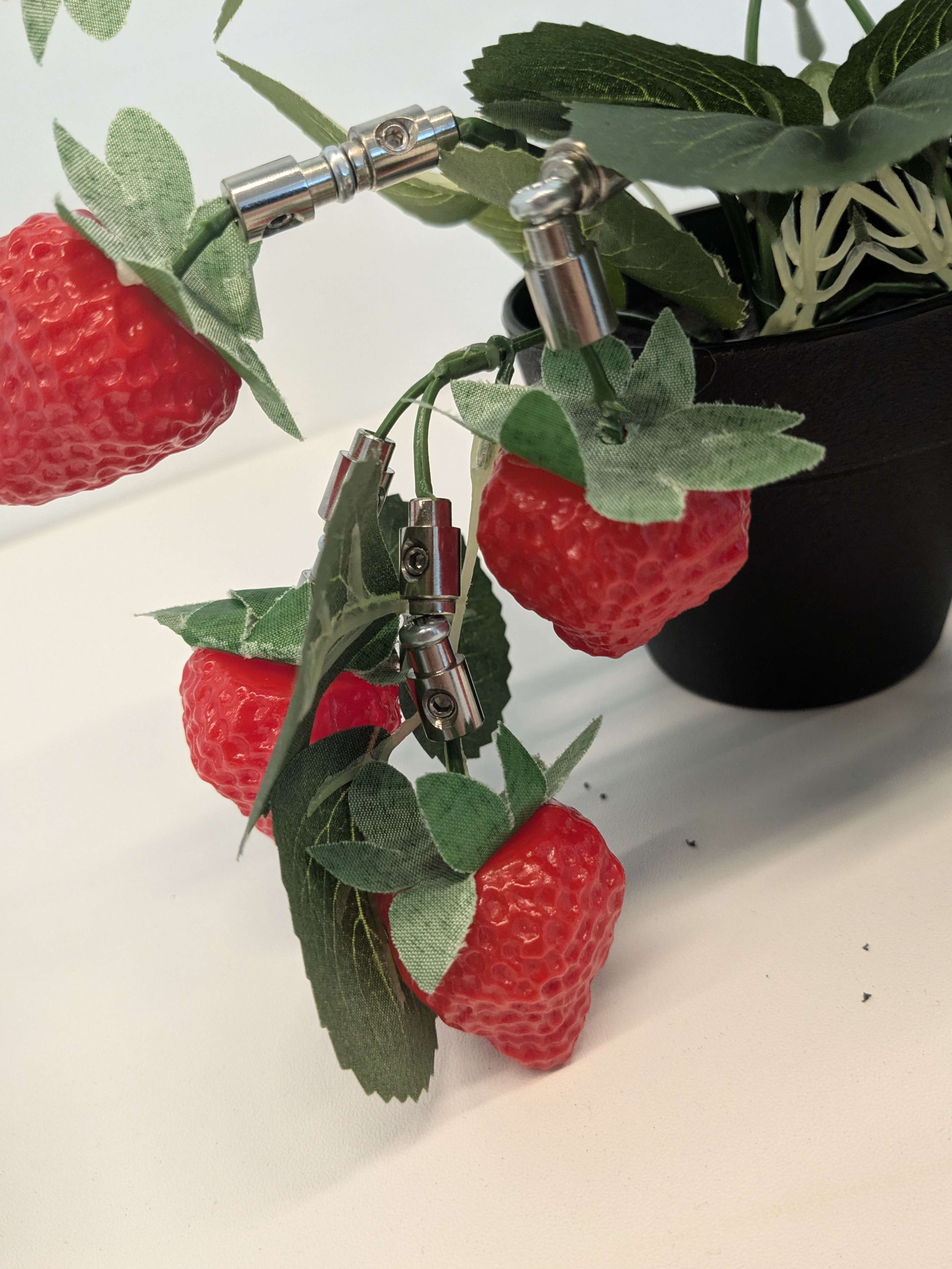Strawberry: (417, 314, 831, 721), (115, 509, 452, 871), (346, 786, 688, 1120), (0, 154, 282, 542)
